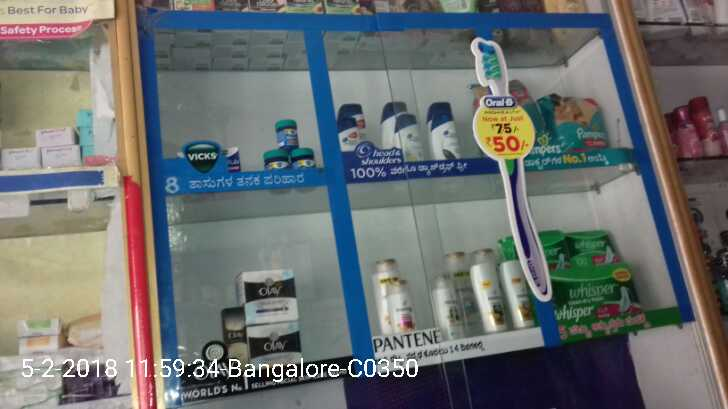vicks: (262, 118, 318, 172)
